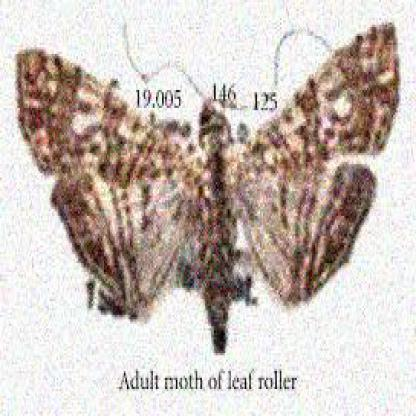Leaf Webber: (11, 16, 403, 364)
